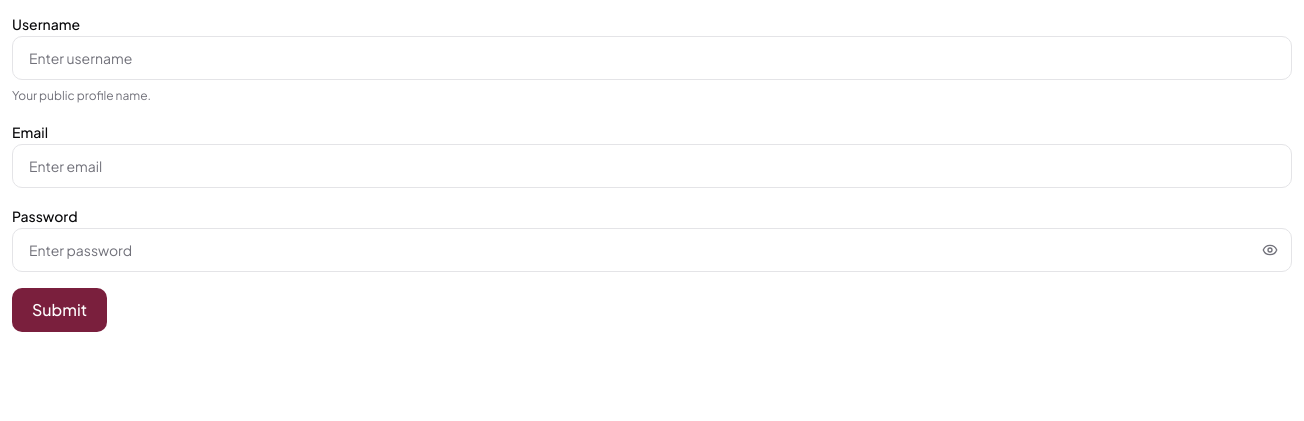
Test: Form Foundation Components (F7) › validates with Zod on submit, moves focus to the first invalid field, and shows error messages
Step 1. Click the button "Submit" → click(60, 310), box [12, 288, 107, 332]
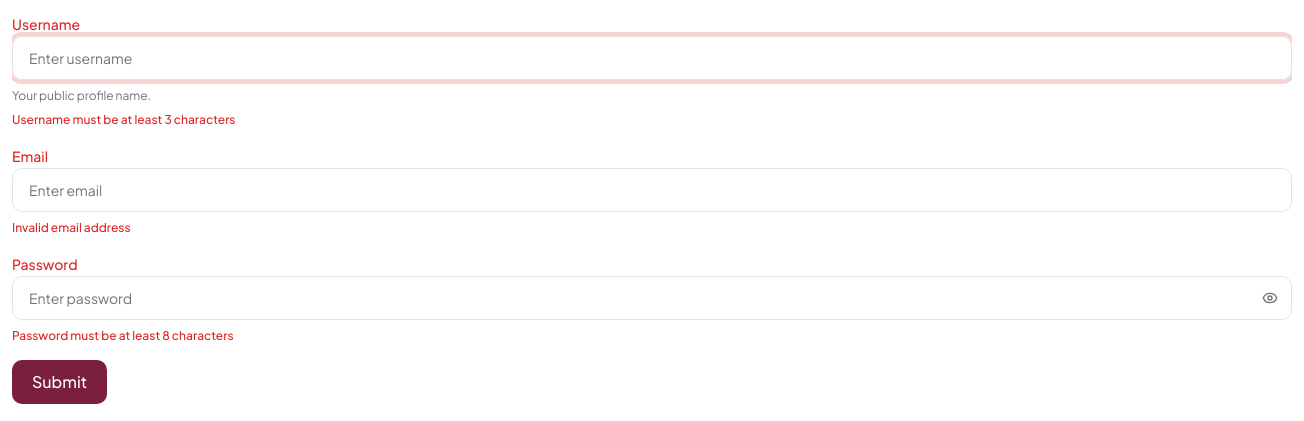
Now the text "Username must be at least 3 characters" is shown, box [12, 112, 236, 127]
Now the text "Invalid email address" is shown, box [12, 220, 131, 235]
Now the text "Password must be at least 8 characters" is shown, box [12, 328, 234, 343]
